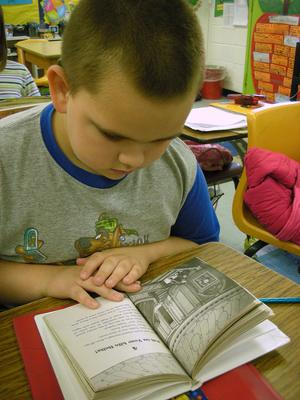person: (1, 1, 222, 310)
